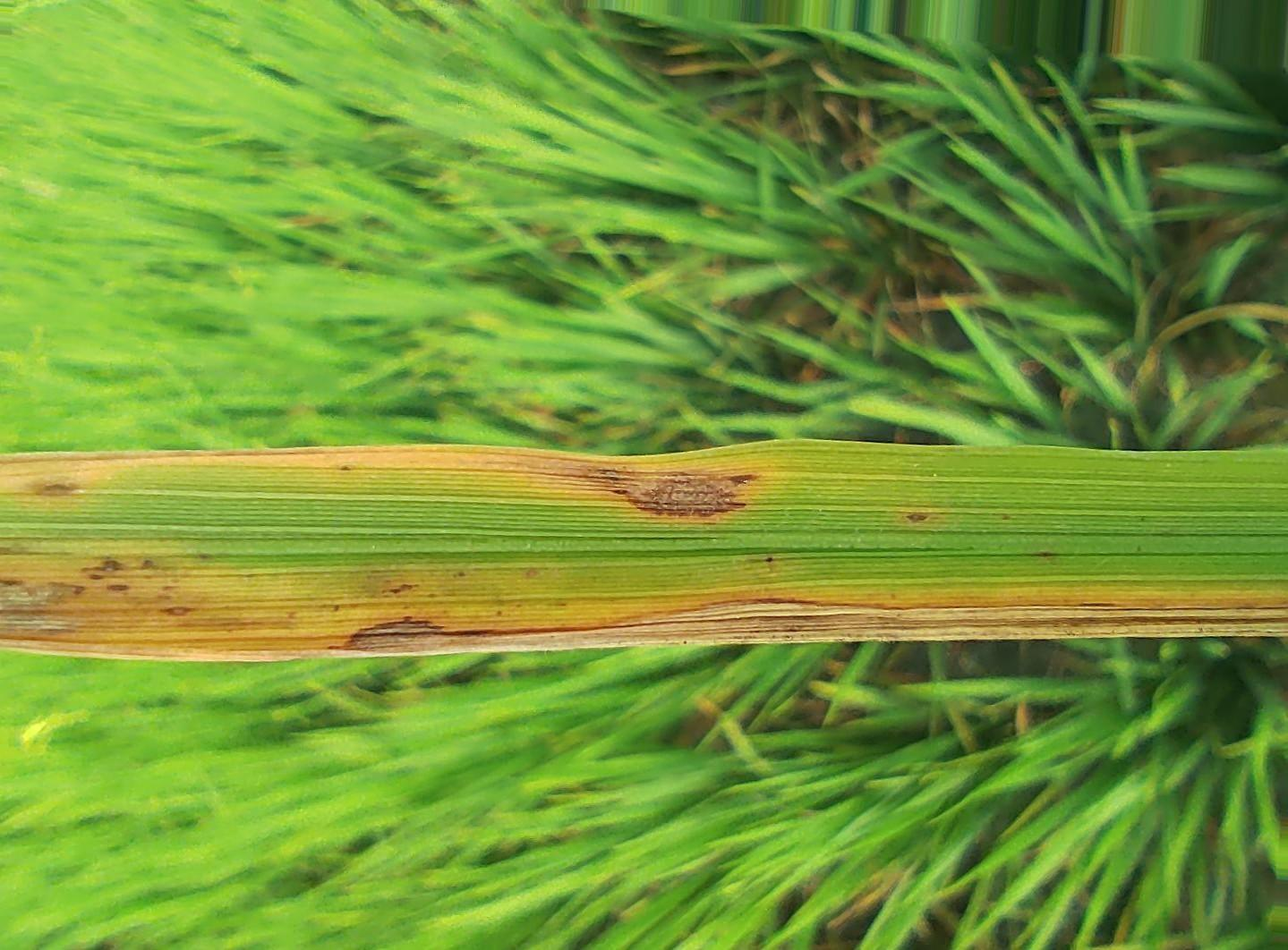LEAF: (0, 440, 1287, 660)
LEAF BLAST: (327, 595, 1286, 652), (568, 466, 754, 517), (0, 578, 88, 612), (2, 612, 82, 636)
